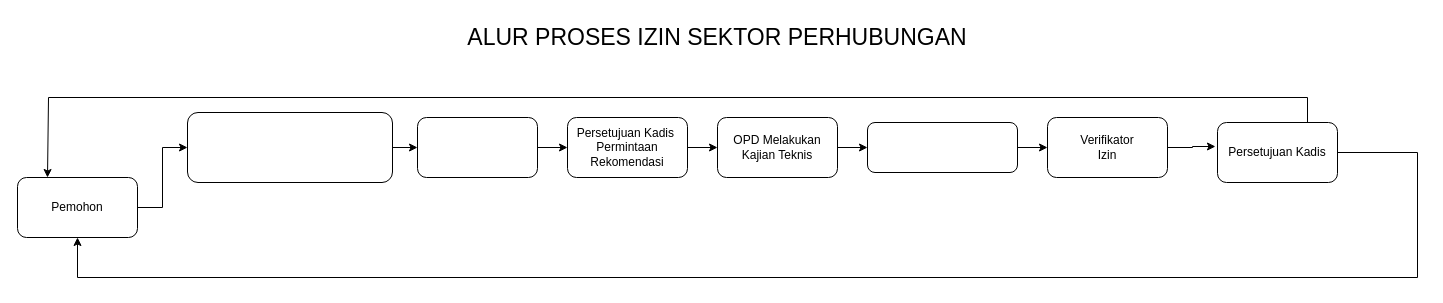
The diagram is 1443 pixels wide and 303 high, and some of its shapes have lost their labels. The shapes that lost their labels are listed below. From the top down, each one's box as (x1, y1, x2, y2) in pixels, then its label:
(186, 112, 392, 182): Back Office Crosscheck Berkas & Buat Draft Permintaan Rekomendasi
(416, 116, 538, 178): Verifikator Permintaan Rekomendasi
(866, 122, 1018, 172): Back Office Menindaklanjuti Kajian Teknis/ Membuat Draft Izin
